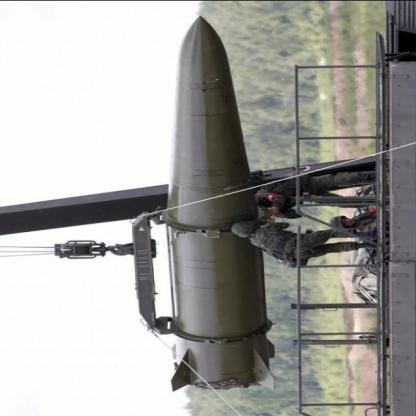MIL_TBM: (161, 12, 267, 396)
